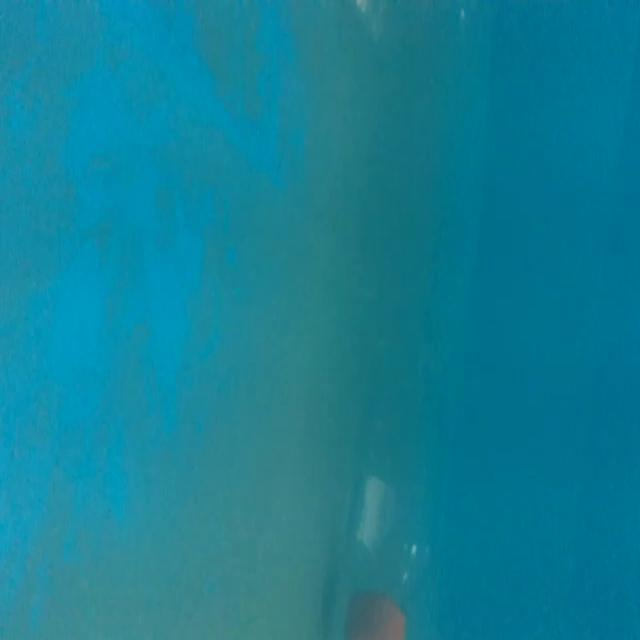plastic bottle: (333, 329, 443, 640)
